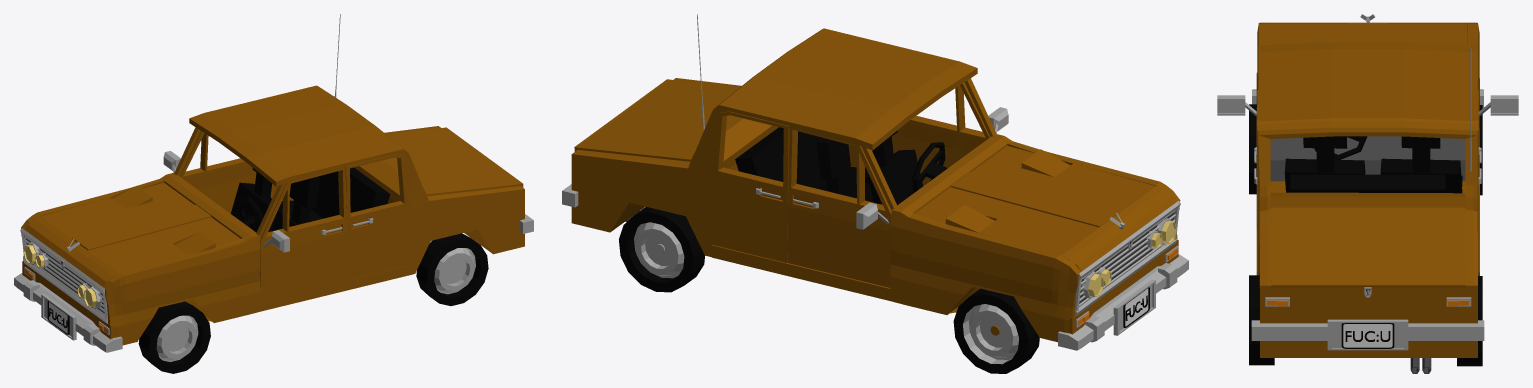
The model's file is Car.glb.
3 renders of one model, left to right at view 1: azimuth 30°, elevation 25°; view 2: azimuth 150°, elevation 25°; view 3: azimuth 270°, elevation 25°, orthographic. The views are drawn at different scales.
Parts seen in each view (by area): view 1: Cylinder.009_Cylinder.068; view 2: Cylinder.009_Cylinder.068; view 3: Cylinder.009_Cylinder.068.
Part boxes in pixels (x1,y1,x2,y2): Cylinder.009_Cylinder.068: (14, 14, 533, 373); Cylinder.009_Cylinder.068: (562, 14, 1188, 373); Cylinder.009_Cylinder.068: (1217, 14, 1518, 373).
Size of the model in its own units: 7.44 by 3.81 by 3.52.
